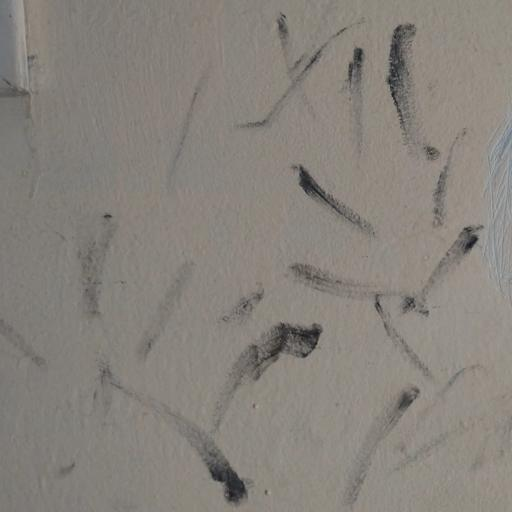stain: (0, 204, 328, 501), (243, 234, 505, 399), (253, 13, 465, 176), (270, 149, 498, 256), (347, 364, 441, 512)
